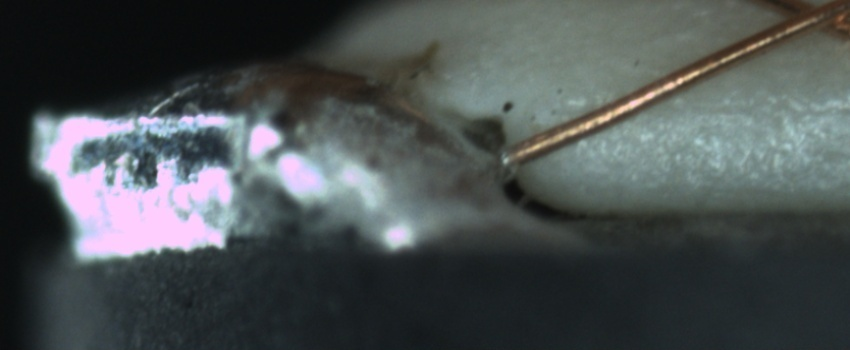CL: (760, 0, 845, 41)
DL: (566, 76, 849, 133)
